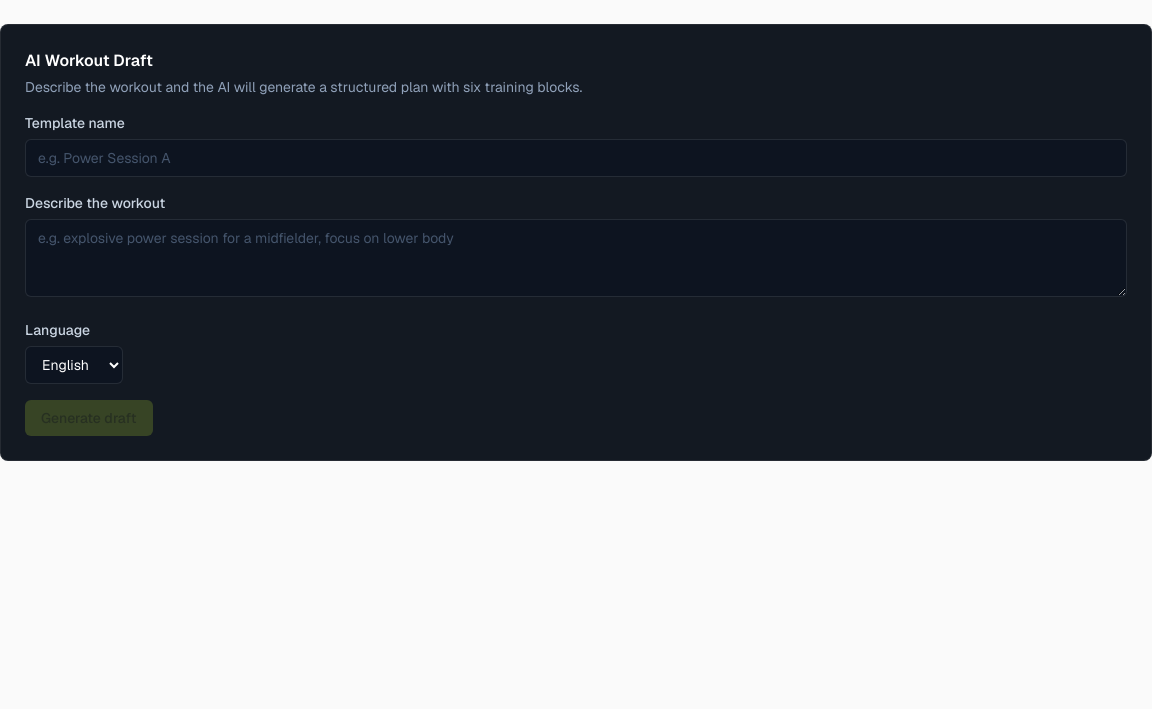
Test: AiDraftPanel — draft happy path › renders the draft title
Type "Power Session A" into the field labelled "Template name" at {"x": 576, "y": 158}, box [25,139,1127,177]
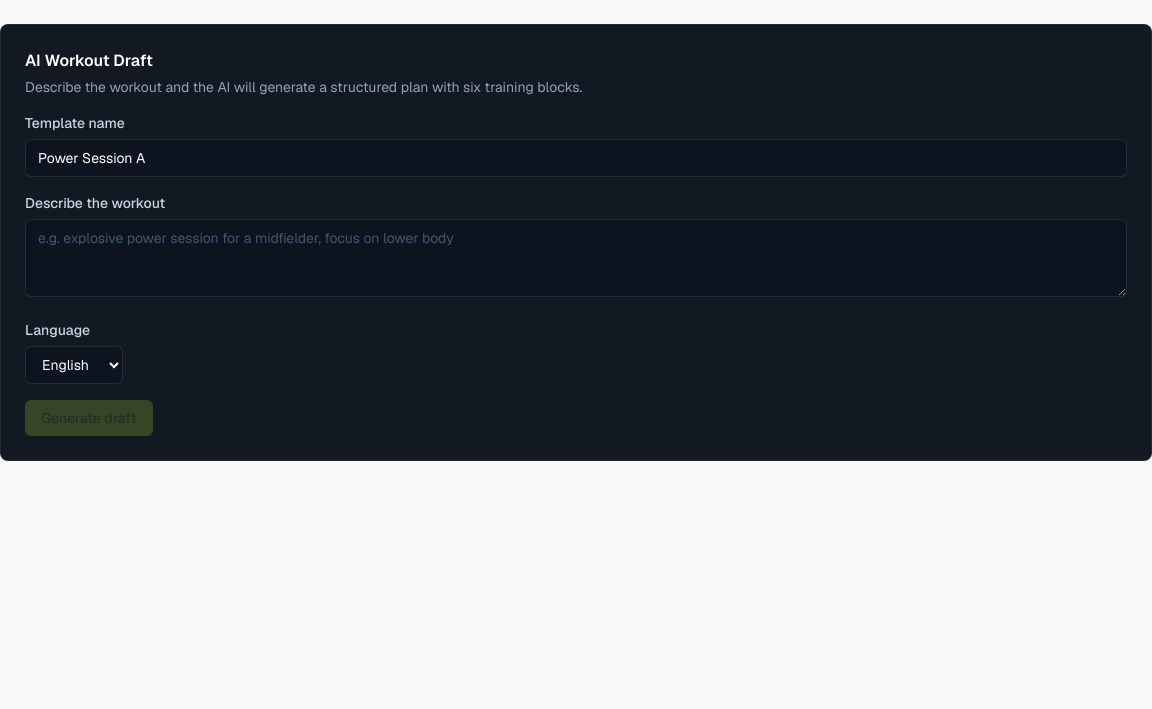
Replace the text in the text box labelled "Describe the workout" with "explosive power session" at {"x": 576, "y": 258}, box [25,219,1127,297]
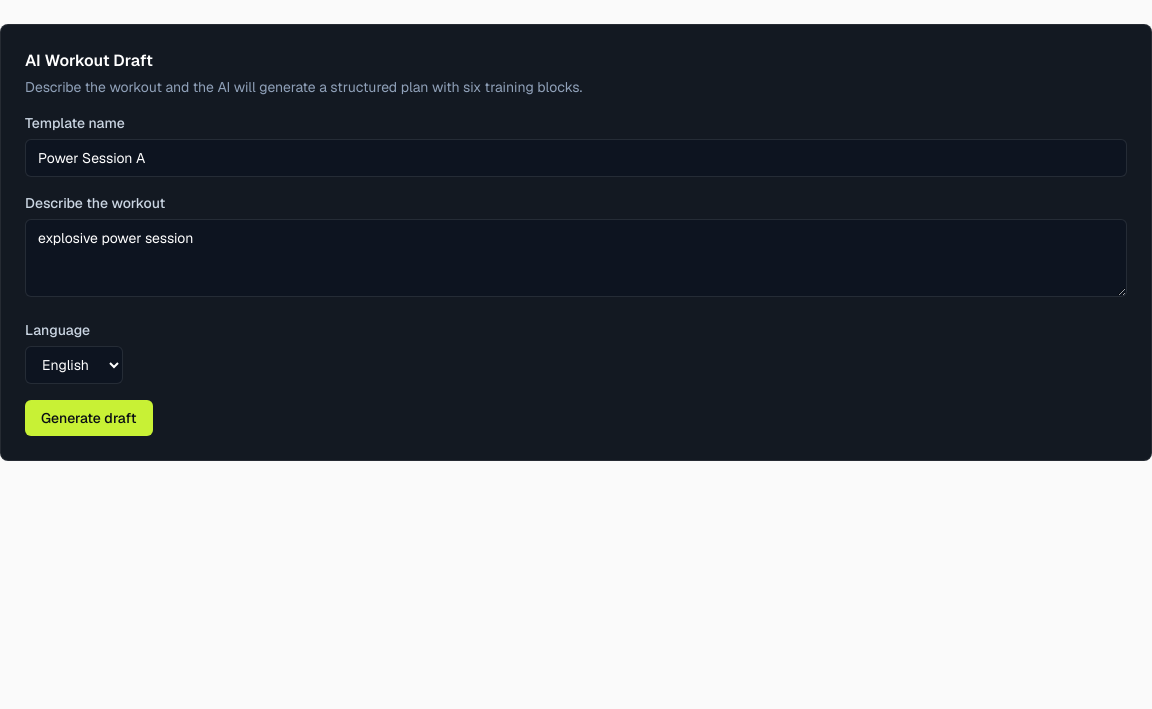
Click the button "Generate draft" at {"x": 89, "y": 418}, box [25,400,153,436]
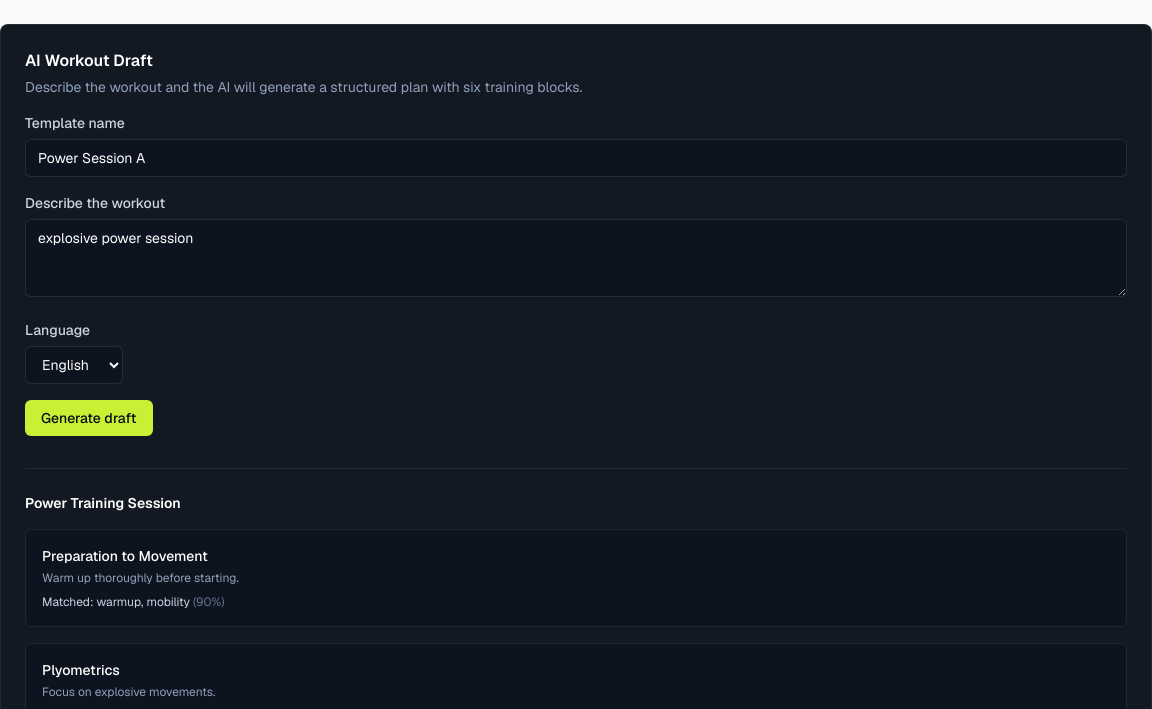
Expected: the heading "Power Training Session" is shown, [25,494,181,512]
